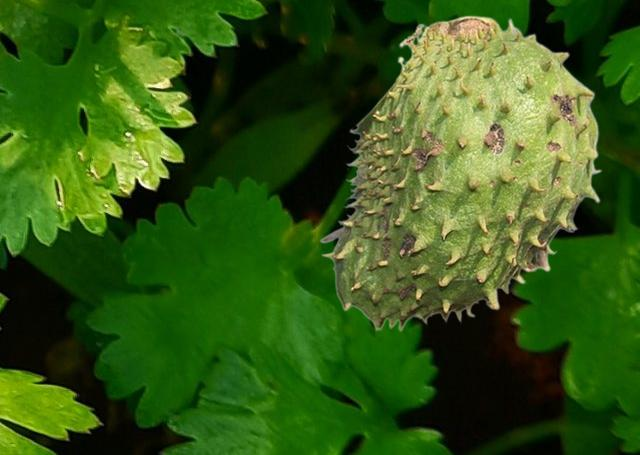guyabano: (319, 15, 601, 331)
